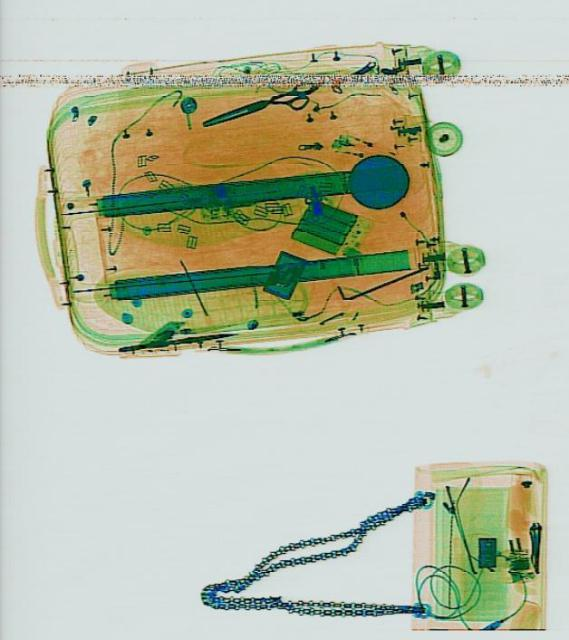Scissors: (198, 76, 319, 138)
